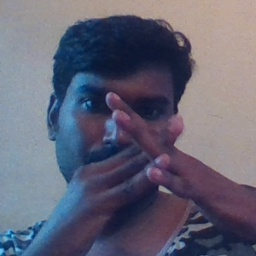W: (68, 78, 226, 227)
